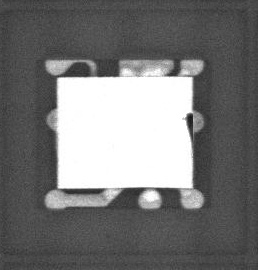DIE_BROKEN: (183, 110, 195, 141)
